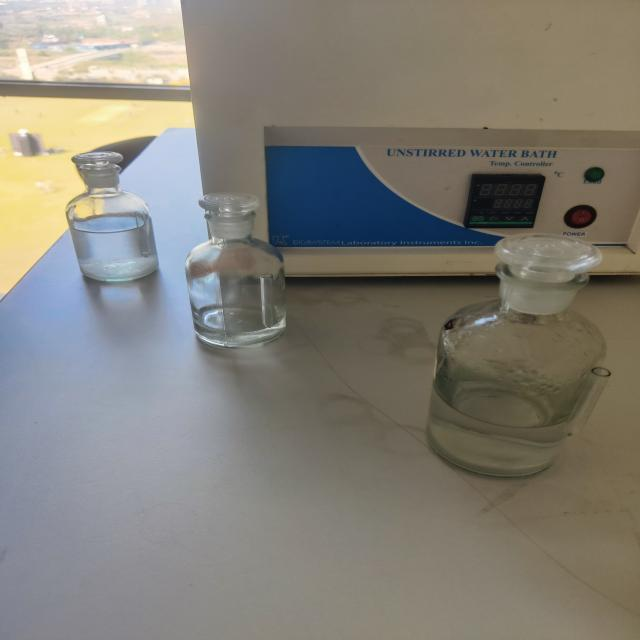Reagent_Bottle: (403, 215, 632, 515), (162, 172, 334, 358), (41, 136, 176, 310)
